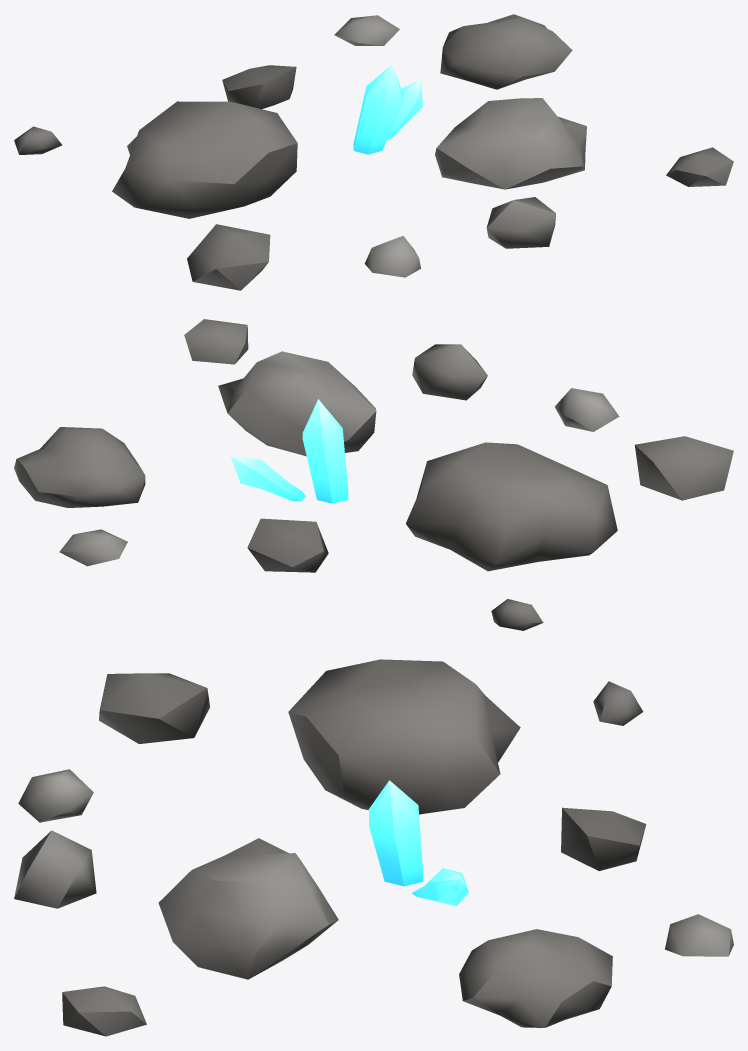
File: moon_pebbles.glb
3 renders of one model, top to bottom at view 1: azimuth 30°, elevation 25°; view 2: azimuth 150°, elevation 25°; view 3: azimuth 270°, elevation 25°, orthographic. The views are drawn at different scales.
Visible parts, largest first — view 1: moon_pebbles; view 2: moon_pebbles; view 3: moon_pebbles.
Boxes of the visible parts, x1,y1,x2,y2 form: moon_pebbles: [14, 14, 733, 290]; moon_pebbles: [14, 319, 733, 630]; moon_pebbles: [14, 659, 733, 1036].
Bounding box in the file's own units: 0.9675 × 0.1464 × 0.8747.
